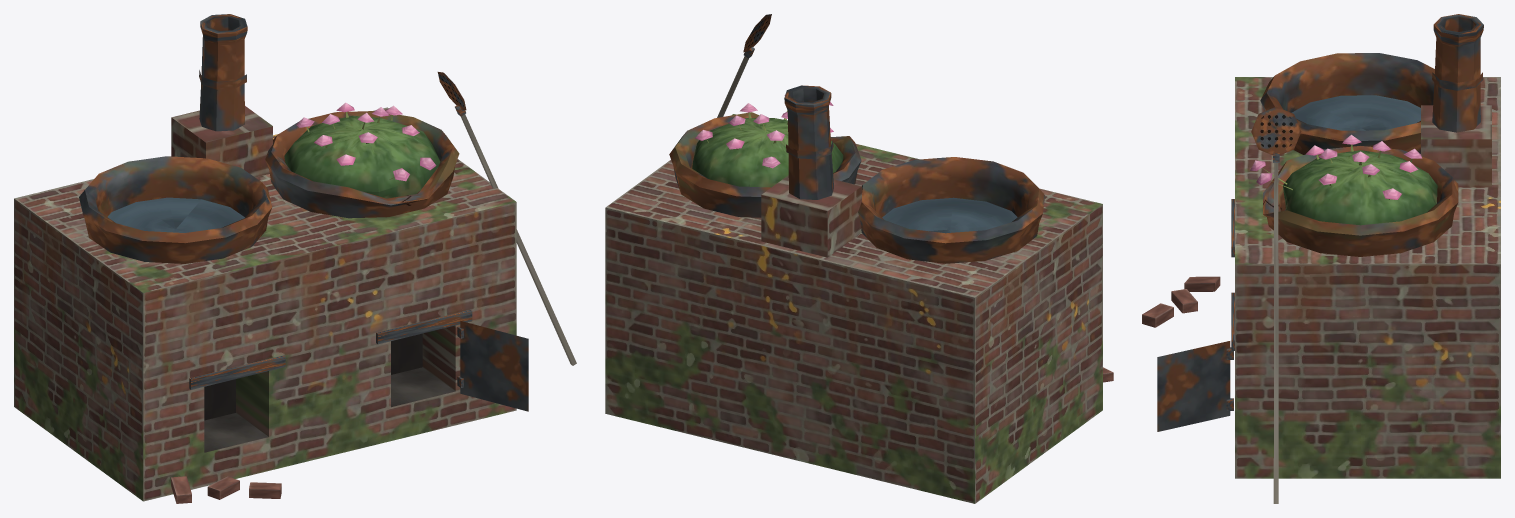
File: tryworks.glb
3 views of the same model, side by side, from view 1: azimuth 30°, elevation 25°; view 2: azimuth 150°, elevation 25°; view 3: azimuth 270°, elevation 25° (orthographic). The views are drawn at different scales.
Visible parts, largest first — view 1: tryworks; view 2: tryworks; view 3: tryworks.
Boxes of the visible parts, left/top/right/bottom form: tryworks: left=14, top=14, right=576, bottom=503; tryworks: left=605, top=14, right=1113, bottom=503; tryworks: left=1142, top=14, right=1500, bottom=503.
Bounding box in the file's own units: 3.64 × 2.7 × 2.43.
1 material, 1 textured.
